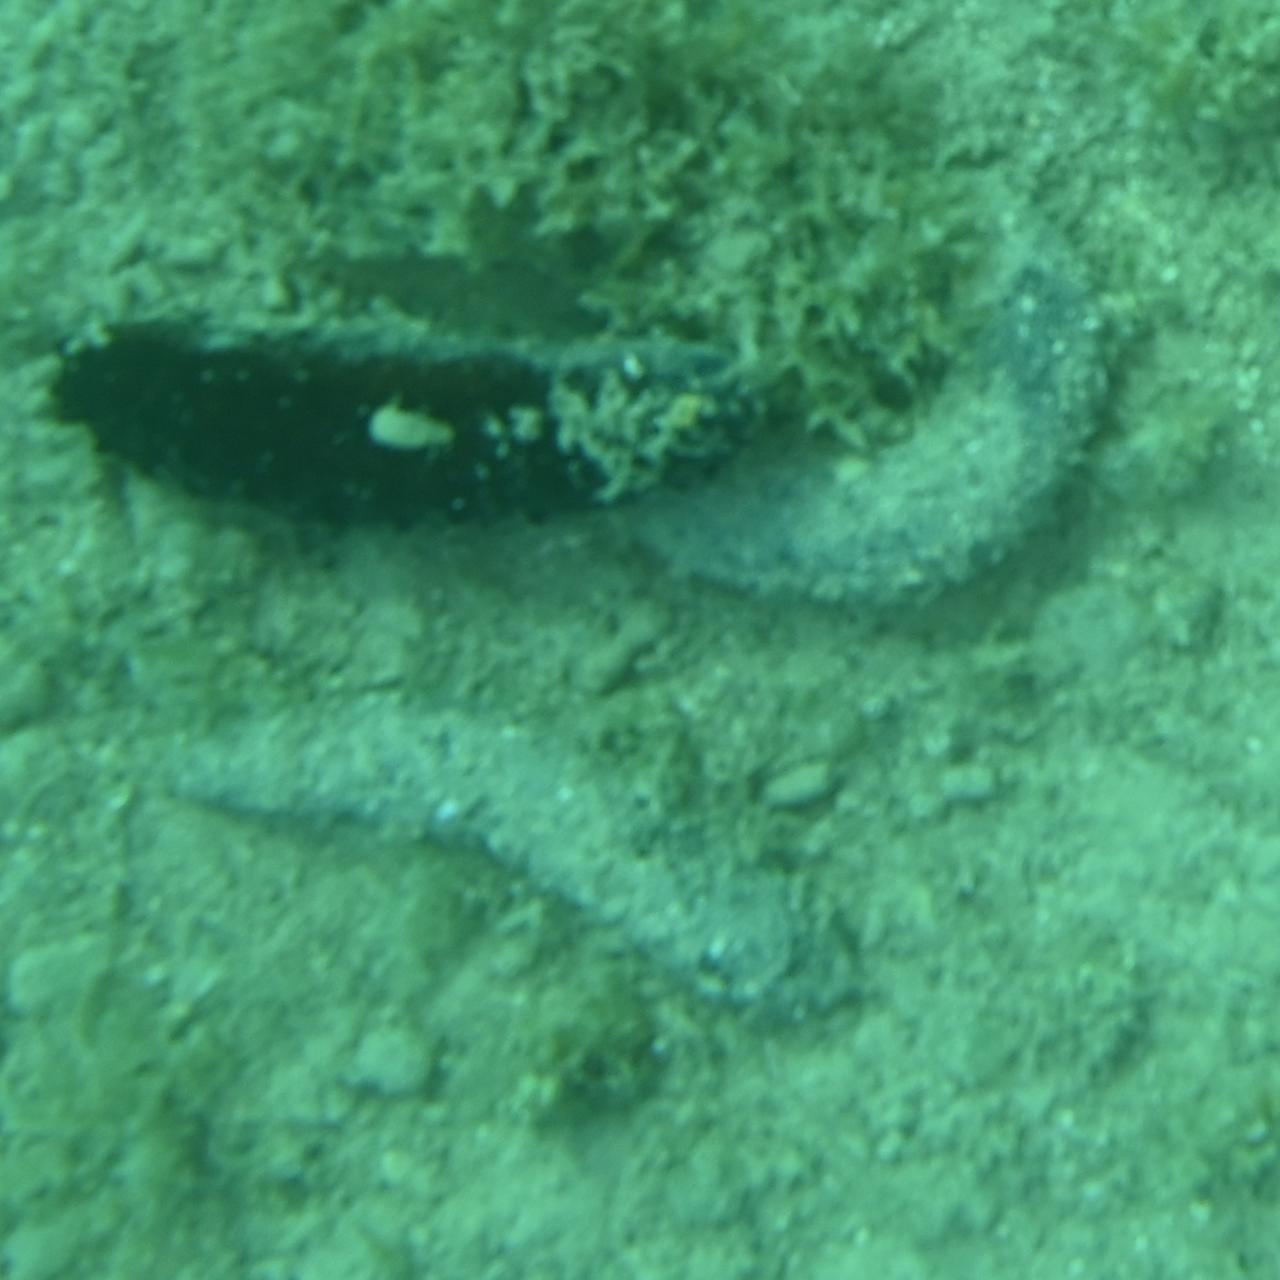Holothuria tubulosa: (147, 686, 869, 1028), (30, 297, 787, 550), (606, 257, 1138, 615)
